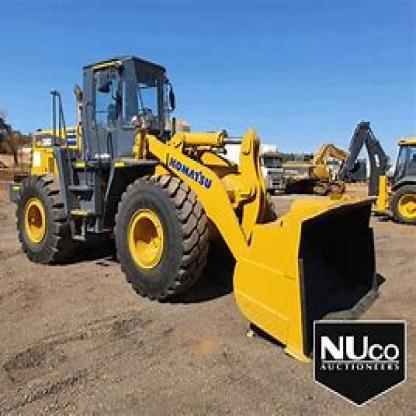bull_dozer/loader/grader: (13, 44, 391, 364)
